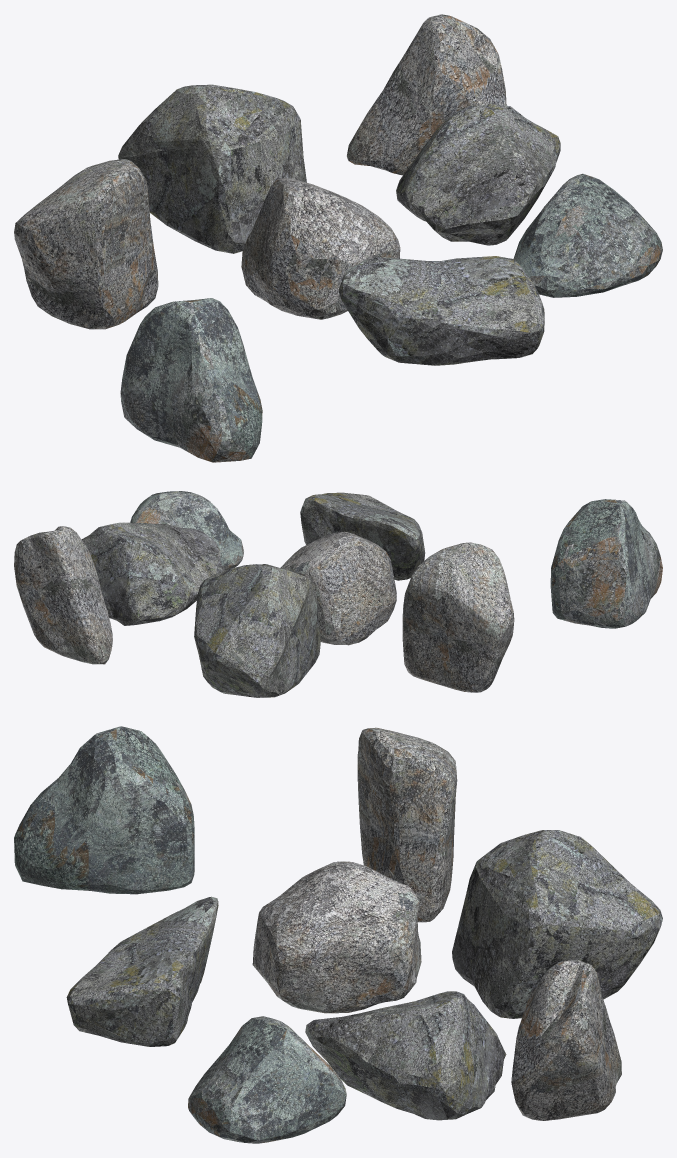
File: Rocks.dae
The picture shows the model from 3 angles, top to bottom: view 1: azimuth 30°, elevation 25°; view 2: azimuth 150°, elevation 25°; view 3: azimuth 270°, elevation 25°; orthographic projection. The views are drawn at different scales.
Parts seen in each view (by area): view 1: skp86B, skp871, skp86C, skp86F, skp86E, skp86A, skp870, skp868; view 2: skp86B, skp86C, skp86F, skp86E, skp870, skp86A, skp871, skp868; view 3: skp86B, skp86F, skp86A, skp86E, skp86C, skp871, skp868, skp870.
Boxes of the visible parts, x1,y1,x2,y2 form: skp86B: (118, 84, 306, 253); skp871: (338, 256, 544, 365); skp86C: (14, 159, 158, 329); skp86F: (120, 298, 262, 462); skp86E: (396, 104, 560, 245); skp86A: (241, 178, 400, 319); skp870: (347, 14, 506, 175); skp868: (513, 173, 662, 297); skp86B: (194, 564, 320, 697); skp86C: (402, 542, 514, 692); skp86F: (550, 499, 662, 628); skp86E: (81, 522, 223, 625); skp870: (14, 526, 112, 664); skp86A: (280, 531, 396, 645); skp871: (300, 492, 425, 580); skp868: (130, 491, 243, 570); skp86B: (452, 830, 662, 1018); skp86F: (14, 726, 194, 894); skp86A: (252, 861, 421, 1013); skp86E: (305, 991, 506, 1120); skp86C: (357, 727, 457, 922); skp871: (66, 896, 218, 1046); skp868: (188, 1016, 346, 1143); skp870: (511, 960, 621, 1120).
Bounding box in the file's own units: 140 × 129 × 37.99.
